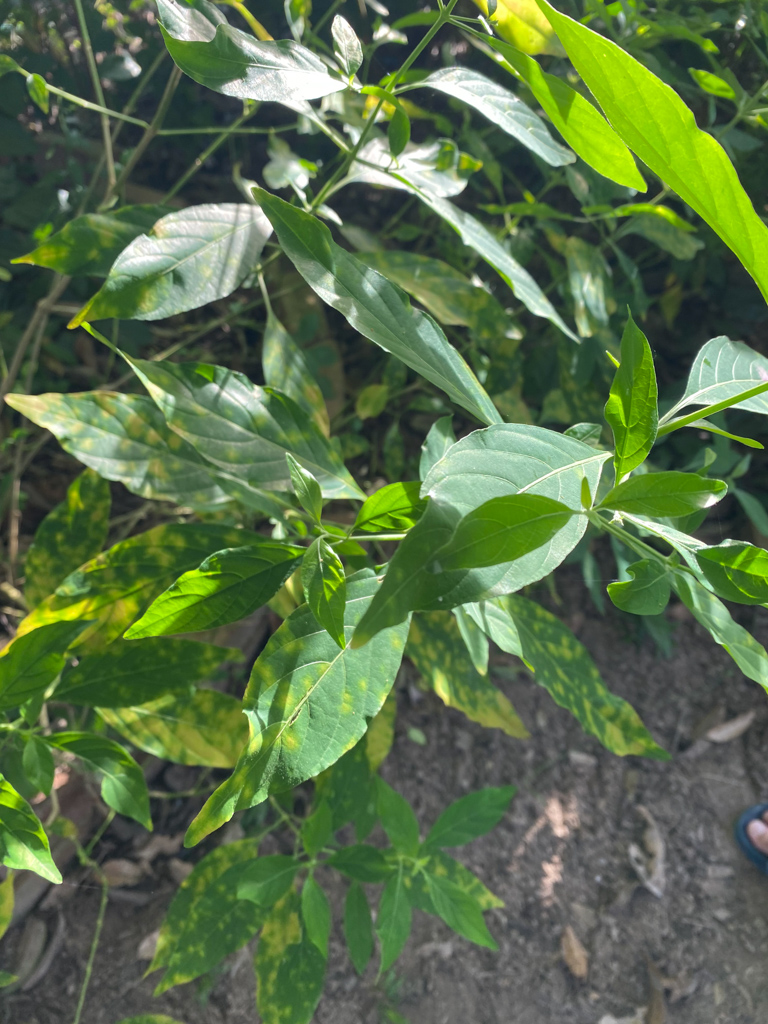Pepper yellow leaf: (179, 576, 410, 854), (5, 525, 267, 661), (483, 586, 671, 773), (8, 384, 242, 517), (131, 840, 270, 999), (403, 598, 526, 761), (88, 674, 249, 763), (255, 877, 325, 1015)
